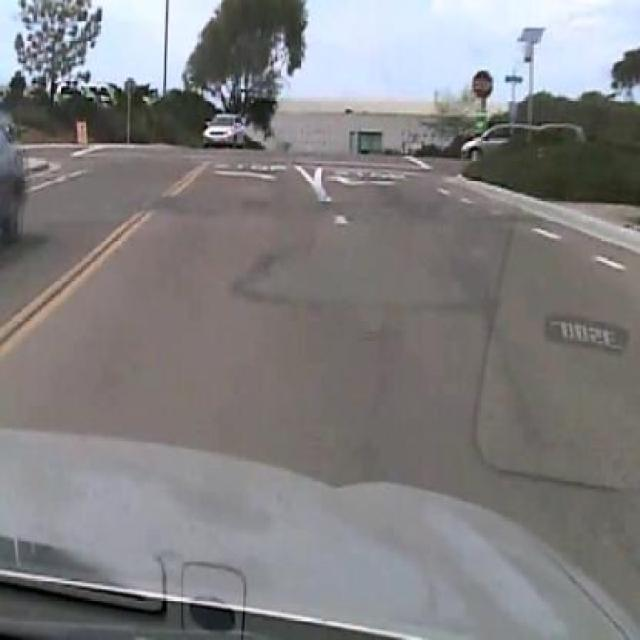stop: (472, 69, 494, 100)
